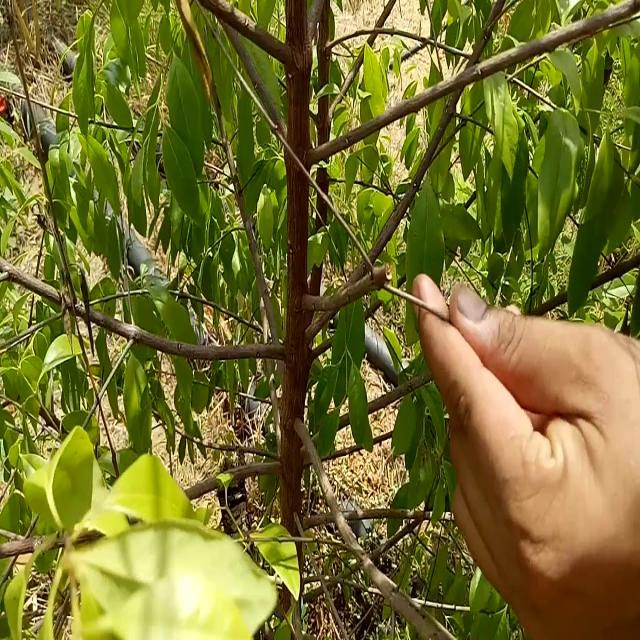Medicinal-Sandalwood: (25, 0, 372, 640), (385, 0, 640, 274)
